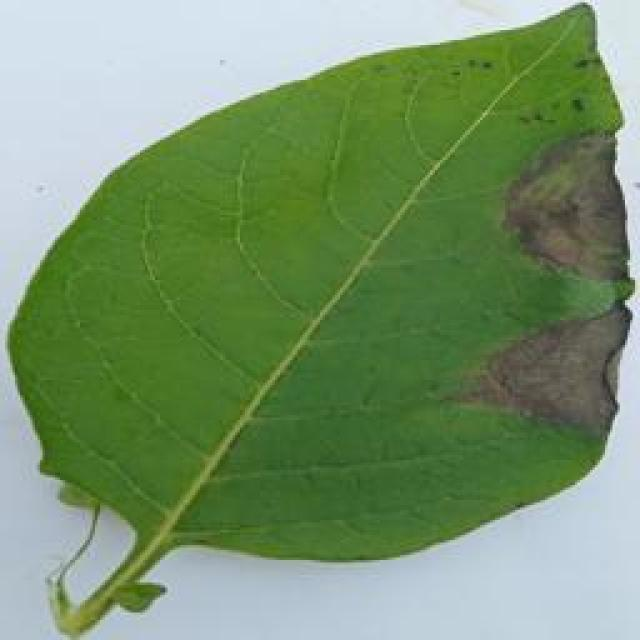Potato_Late_Blight: (11, 6, 624, 632)
